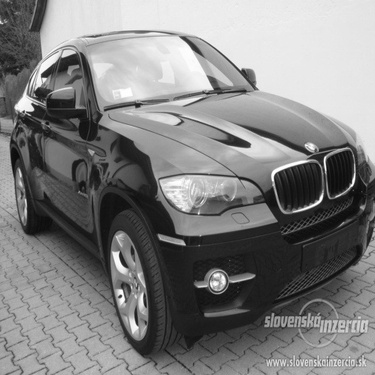car: (6, 23, 372, 356)
